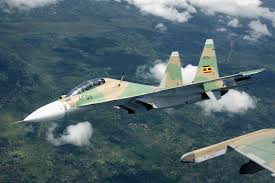maybay_muctieu: (10, 50, 262, 125)
